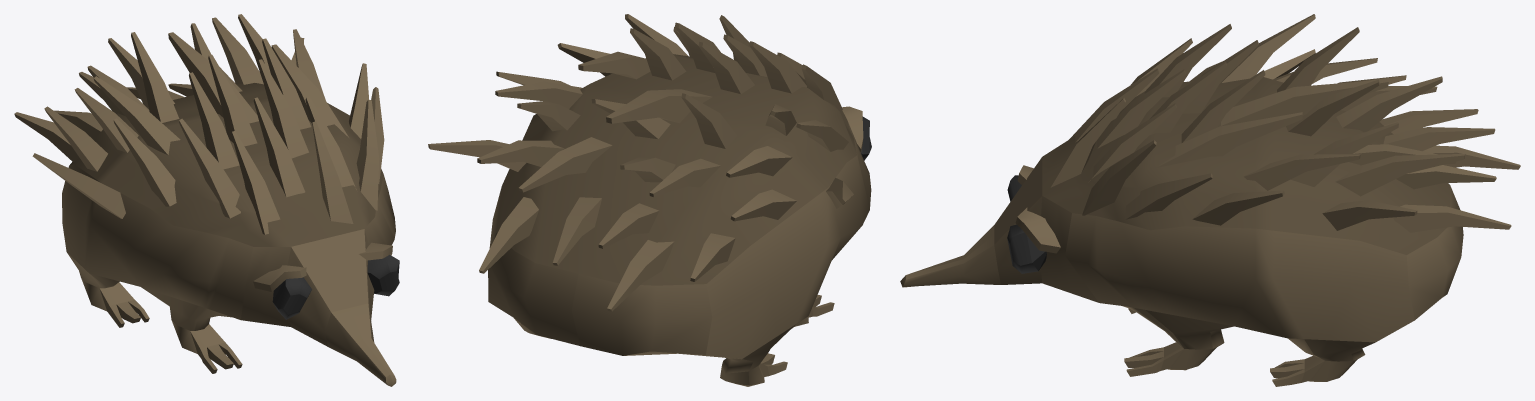
Rendered from PlayerEchidna.fbx.
3 views of the same model, side by side, from view 1: azimuth 30°, elevation 25°; view 2: azimuth 150°, elevation 25°; view 3: azimuth 270°, elevation 25° (orthographic). The views are drawn at different scales.
Visible parts, largest first — view 1: pCube46; view 2: pCube46; view 3: pCube46.
Boxes of the visible parts, <box> form: pCube46: <box>14,14,399,386</box>; pCube46: <box>428,14,871,386</box>; pCube46: <box>900,14,1520,386</box>.
Bounding box in the file's own units: 3.49 × 2.76 × 5.38.
